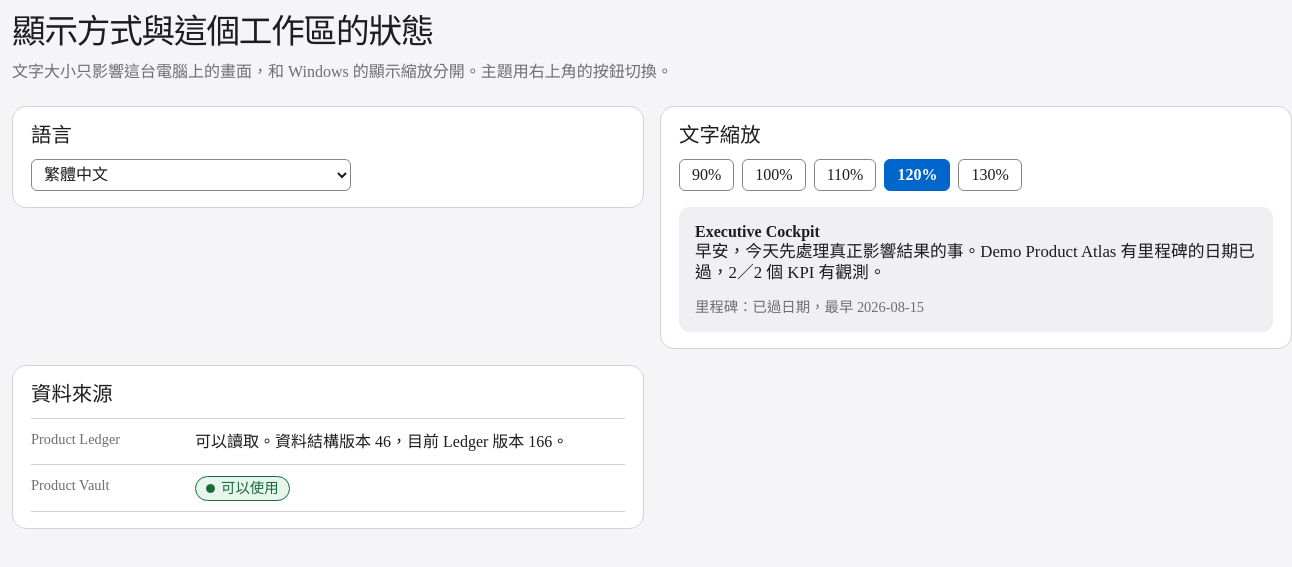
Settings › stores a new language, then switches the whole screen and <html lang> to it
The width and height of the screenshot is (1292, 567).
Select "Español" in the dropdown labelled "語言" at (191, 175), box [31, 159, 351, 191]
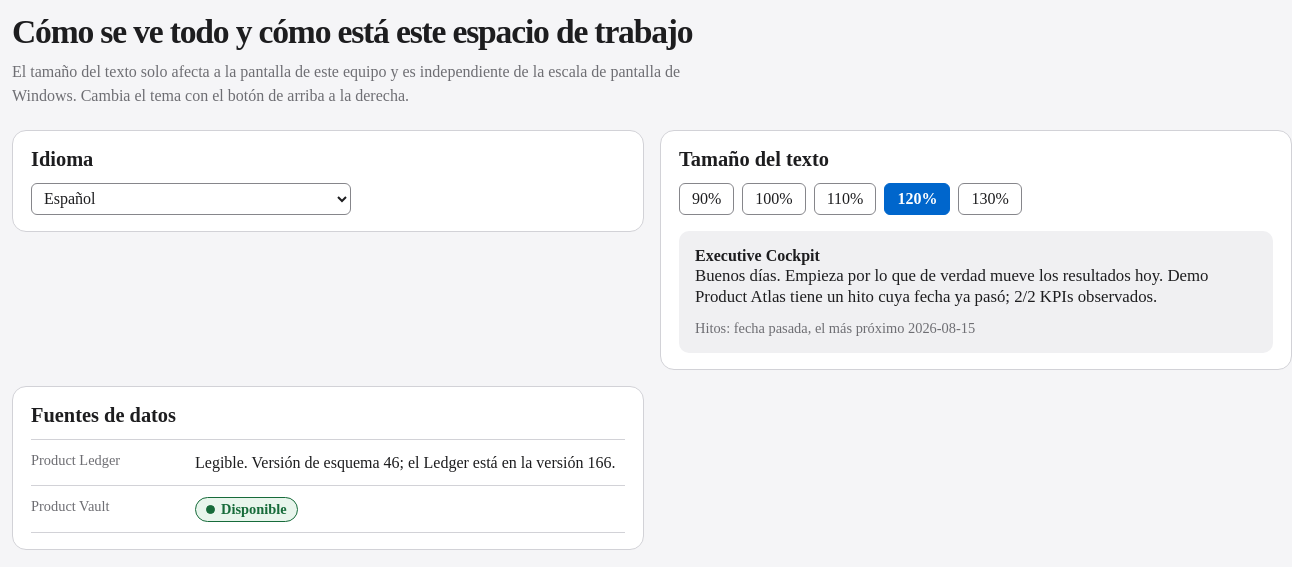
Expected: the heading "Tamaño del texto" is shown, [679, 148, 829, 170]
